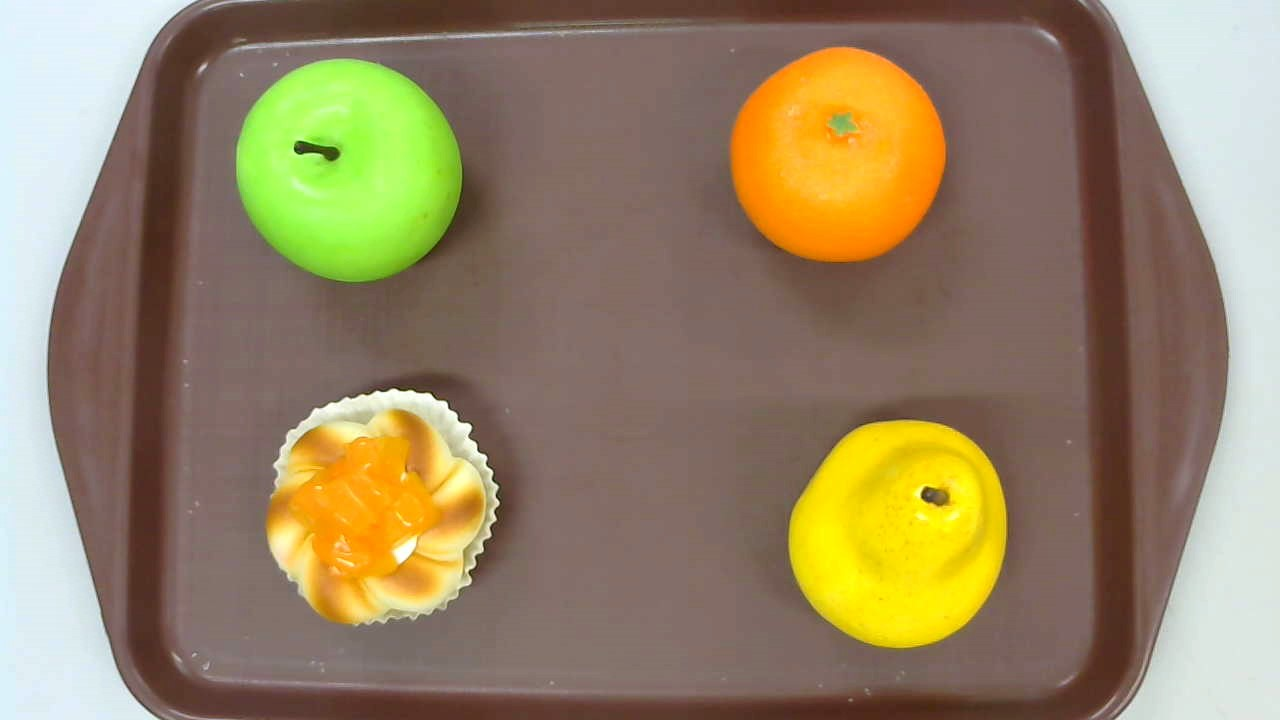green apple: (235, 59, 462, 284)
mango tart: (266, 387, 500, 628)
orange: (729, 47, 945, 265)
yellow pear: (789, 419, 1006, 647)
